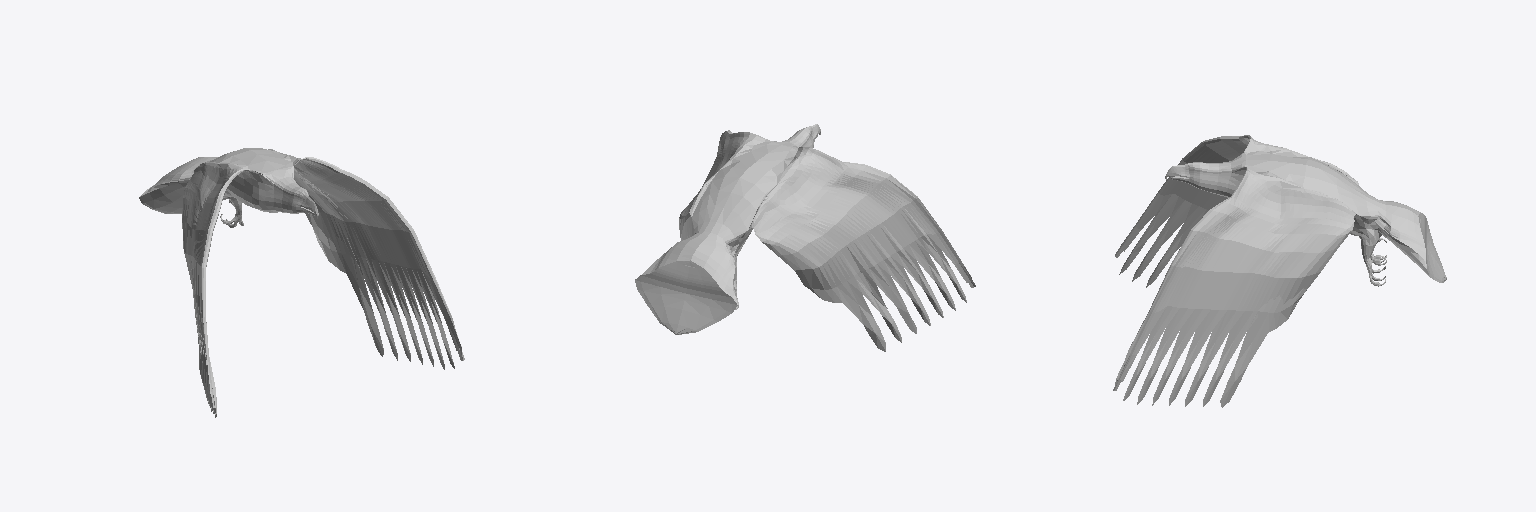
The model's file is Eagle-original_000066.obj.
The picture shows the model from 3 angles: view 1: azimuth 30°, elevation 25°; view 2: azimuth 150°, elevation 25°; view 3: azimuth 270°, elevation 25°; orthographic projection.
Parts seen in each view (by area): view 1: Flugel_Plane.003; view 2: Flugel_Plane.003; view 3: Flugel_Plane.003.
Part boxes in pixels (bbox=[...]): Flugel_Plane.003: bbox=[139, 148, 464, 417]; Flugel_Plane.003: bbox=[635, 124, 975, 351]; Flugel_Plane.003: bbox=[1113, 135, 1446, 407].
Size of the model in its own units: 5.72 by 4.56 by 6.6.